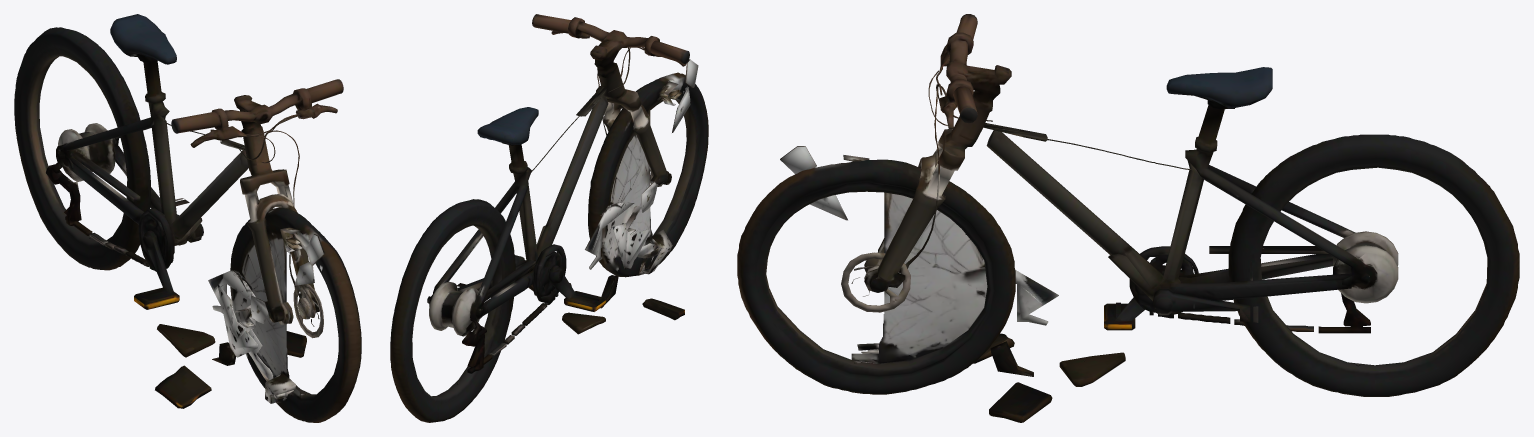
File: broken_bycicle_3b682d62_v2.glb
3 views of the same model, side by side, from view 1: azimuth 30°, elevation 25°; view 2: azimuth 150°, elevation 25°; view 3: azimuth 270°, elevation 25° (orthographic). The views are drawn at different scales.
Visible parts, largest first — view 1: material; view 2: material; view 3: material.
Boxes of the visible parts, x1=… form: material: x1=14, y1=14, x2=361, y2=422; material: x1=390, y1=14, x2=708, y2=422; material: x1=737, y1=14, x2=1519, y2=422.
Size of the model in its own units: 0.558 by 0.9139 by 1.9.
1 material, 1 textured.
